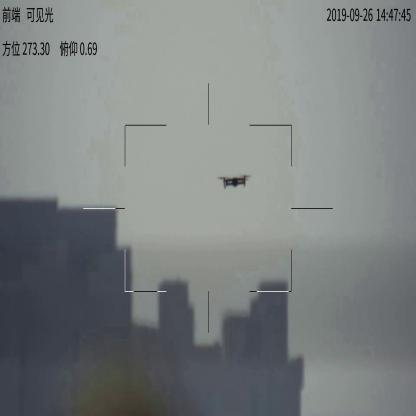uav: (222, 170, 257, 190)
